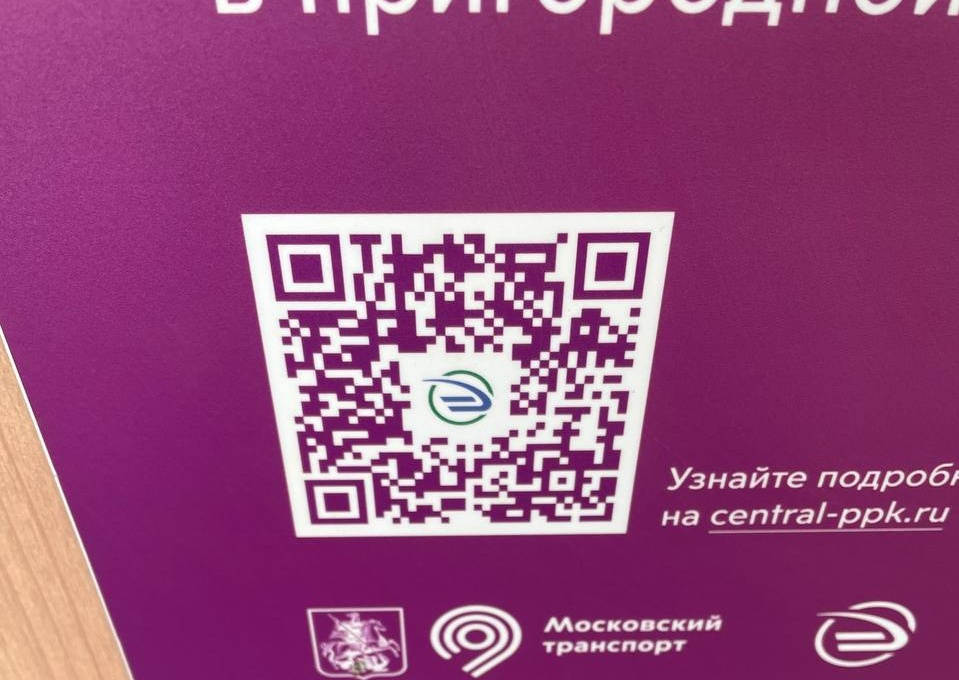2d: (265, 230, 655, 527)
